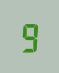nine: (19, 19, 37, 53)
